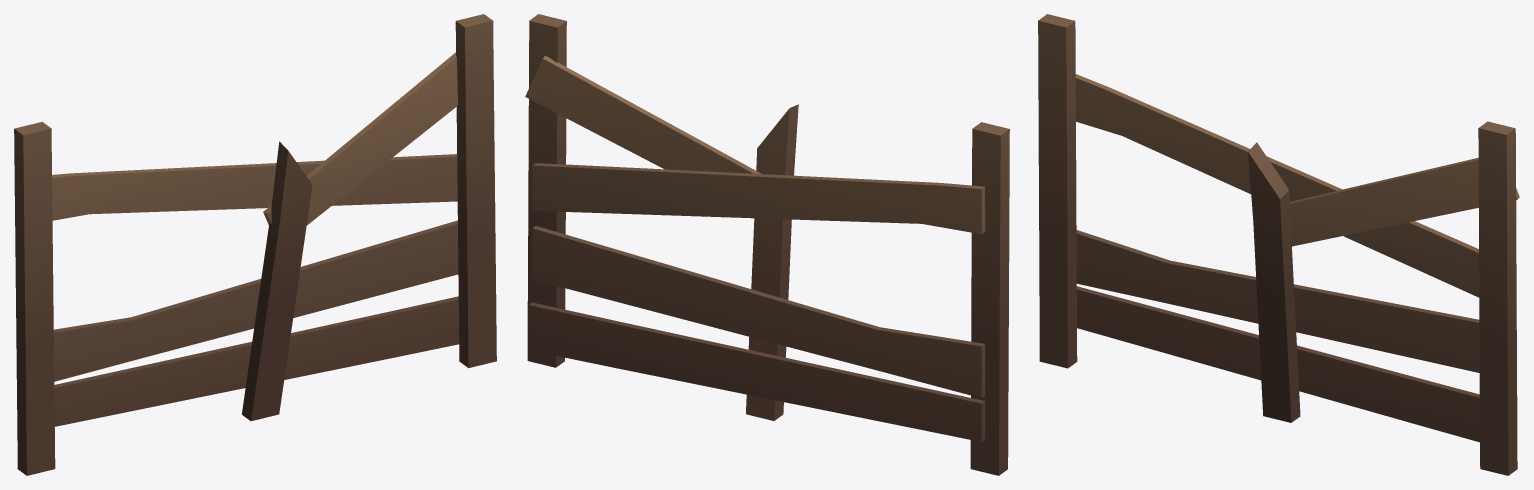
Rendered from Mines Wood Fence Broken.glb.
The picture shows the model from 3 angles, left to right: view 1: azimuth 30°, elevation 25°; view 2: azimuth 150°, elevation 25°; view 3: azimuth 330°, elevation 25°; orthographic projection.
Parts seen in each view (by area): view 1: Mines Wood Fence Broken; view 2: Mines Wood Fence Broken; view 3: Mines Wood Fence Broken.
Part boxes in pixels (x1,y1,x2,y2): Mines Wood Fence Broken: (14, 14, 496, 475); Mines Wood Fence Broken: (525, 14, 1009, 475); Mines Wood Fence Broken: (1038, 14, 1519, 475).
Size of what is drawn, in the model's own units: 3.84 by 2.64 by 0.5769.
Materials: 1 (1 with a texture image).
